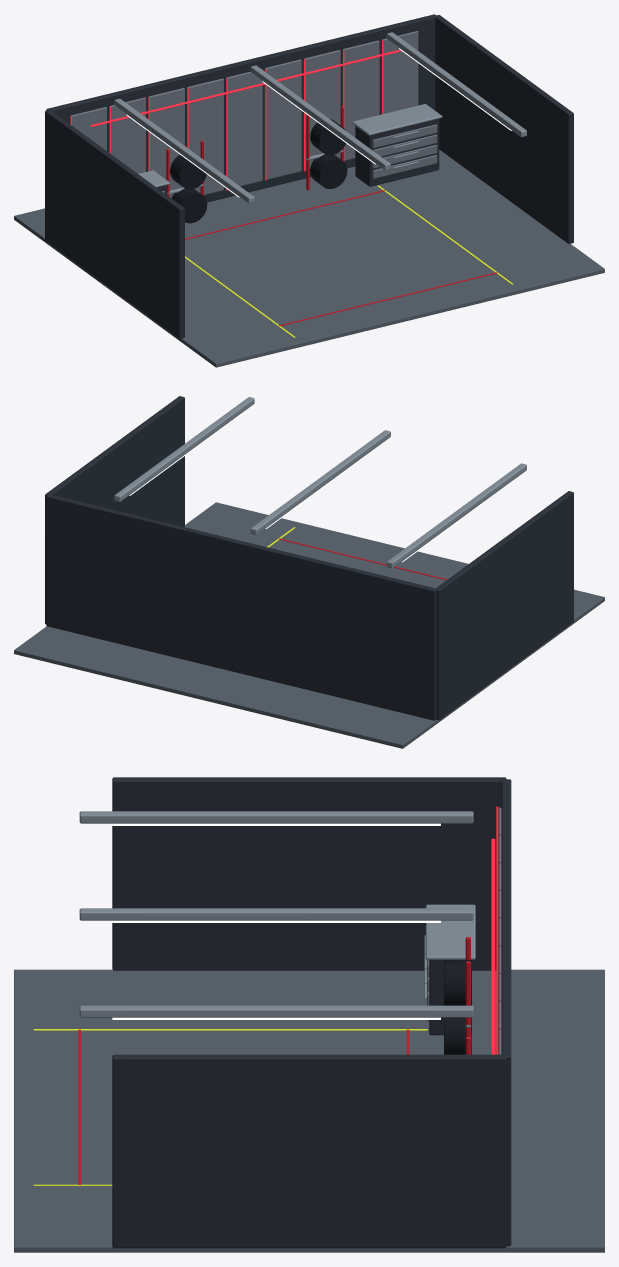
The model's file is pit-garage-CvFcUH9d.glb.
3 views of the same model, one above another, from view 1: azimuth 30°, elevation 25°; view 2: azimuth 150°, elevation 25°; view 3: azimuth 270°, elevation 25° (orthographic). The views are drawn at different scales.
Parts seen in each view (by area): view 1: static_Garage_slate, static_Satin_graphite_carbon, static_Garage_panels, static_Brushed_titanium, static_Race_slick_rubber, static_Red_LED, static_Vermilion_lacquer, static_Acid_yellow_details, static_Warm_LED; view 2: static_Satin_graphite_carbon, static_Garage_slate, static_Brushed_titanium, static_Warm_LED; view 3: static_Satin_graphite_carbon, static_Garage_slate, static_Brushed_titanium, static_Warm_LED, static_Race_slick_rubber, static_Red_LED, static_Vermilion_lacquer, static_Garage_panels, static_Acid_yellow_details.
Part boxes in pixels (<box>): static_Garage_slate: <box>14,150,604,367</box>; static_Satin_graphite_carbon: <box>45,14,573,338</box>; static_Garage_panels: <box>70,31,437,198</box>; static_Brushed_titanium: <box>114,32,526,203</box>; static_Race_slick_rubber: <box>170,119,347,223</box>; static_Red_LED: <box>70,40,401,190</box>; static_Vermilion_lacquer: <box>166,106,496,325</box>; static_Acid_yellow_details: <box>185,185,513,337</box>; static_Warm_LED: <box>126,48,511,197</box>; static_Satin_graphite_carbon: <box>45,396,573,720</box>; static_Garage_slate: <box>14,502,604,748</box>; static_Brushed_titanium: <box>114,397,526,568</box>; static_Warm_LED: <box>129,413,514,562</box>; static_Satin_graphite_carbon: <box>112,777,511,1248</box>; static_Garage_slate: <box>14,969,604,1252</box>; static_Brushed_titanium: <box>79,811,475,1027</box>; static_Warm_LED: <box>112,823,440,1019</box>; static_Race_slick_rubber: <box>444,960,471,1054</box>; static_Red_LED: <box>491,806,498,1054</box>; static_Vermilion_lacquer: <box>78,937,470,1184</box>; static_Garage_panels: <box>427,807,501,1054</box>; static_Acid_yellow_details: <box>33,1029,427,1185</box>.
Size of the model in its own units: 10.15 by 3.43 by 9.
